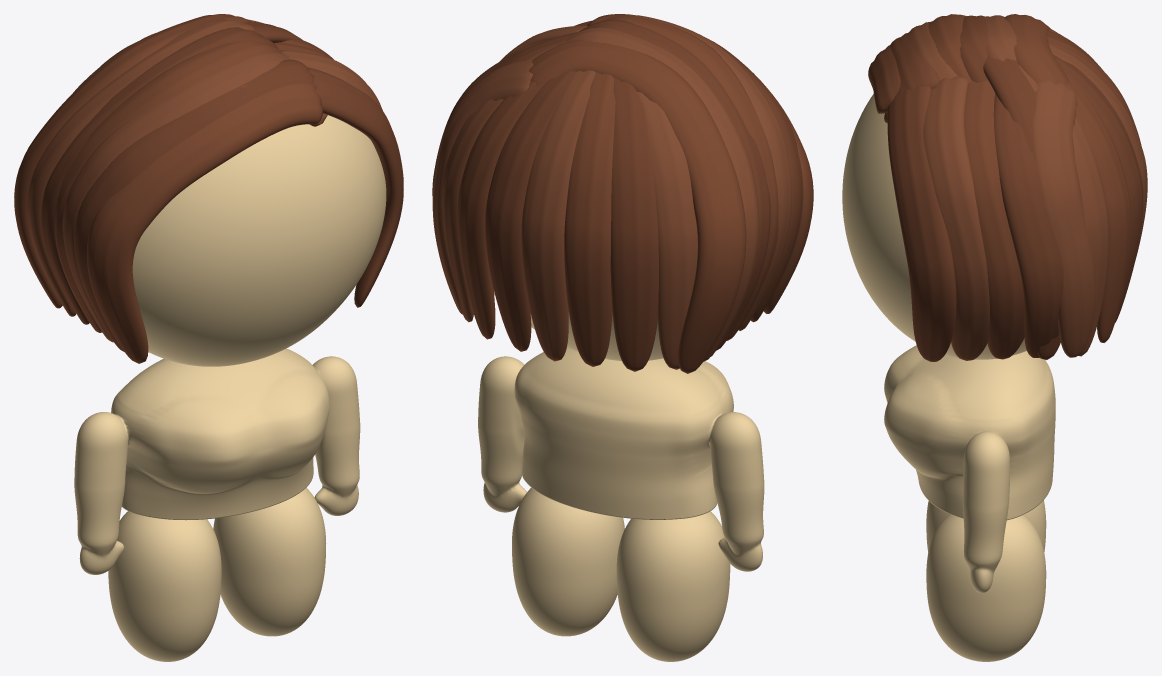
Rendered from Feminine-hands-mitten-base.glb.
3 views of the same model, side by side, from view 1: azimuth 30°, elevation 25°; view 2: azimuth 150°, elevation 25°; view 3: azimuth 270°, elevation 25° (orthographic).
Parts seen in each view (by area): view 1: Skin / soft oval head, Skin / rounded torso, Hair / Bob / side sweep 0, Skin / leg blob -1, Skin / leg blob 1, Hair / Bob / side sweep 1, Hair / Bob / side sweep 2, Hair / Bob / side sweep 3, Hair / Bob / side sweep 7, Hair / Bob / side sweep 6, Hair / Bob / side sweep 5, Hair / Bob / side sweep 4 (+2 smaller); view 2: Skin / rounded torso, Hair / Bob / side sweep 6, Skin / leg blob -1, Skin / leg blob 1, Hair / Bob / side sweep 19, Hair / Bob / side sweep 18, Hair / Bob / side sweep 17, Hair / Bob / side sweep 16, Hair / Bob / side sweep 20, Hair / Bob / side sweep 15, Hair / Bob / side sweep 5, Hair / Bob / side sweep 3 (+9 smaller); view 3: Skin / rounded torso, Skin / leg blob 1, Hair / Bob / side sweep 7, Skin / soft oval head, Hair / Bob / side sweep 8, Hair / Bob / side sweep 11, Hair / Bob / side sweep 10, Hair / Bob / side sweep 9, Hair / Bob / side sweep 15, Hair / Bob / side sweep 14, Hair / Bob / side sweep 16, Hair / Bob / side sweep 13 (+10 smaller).
Boxes of the visible parts, x1,y1,x2,y2 form: Skin / soft oval head: (132,115,386,366); Skin / rounded torso: (74,348,360,574); Hair / Bob / side sweep 0: (87,83,327,363); Skin / leg blob -1: (108,511,221,661); Skin / leg blob 1: (213,487,326,636); Hair / Bob / side sweep 1: (74,59,317,351); Hair / Bob / side sweep 2: (62,52,289,342); Hair / Bob / side sweep 3: (54,39,281,332); Hair / Bob / side sweep 7: (308,67,403,307); Hair / Bob / side sweep 6: (14,14,250,308); Hair / Bob / side sweep 5: (27,18,253,316); Hair / Bob / side sweep 4: (41,27,278,324); Skin / rounded torso: (478,347,764,571); Hair / Bob / side sweep 6: (529,40,746,373); Skin / leg blob -1: (616,511,730,661); Skin / leg blob 1: (512,487,624,636); Hair / Bob / side sweep 19: (610,78,658,371); Hair / Bob / side sweep 18: (564,72,615,366); Hair / Bob / side sweep 17: (521,70,595,361); Hair / Bob / side sweep 16: (485,71,576,351); Hair / Bob / side sweep 20: (637,91,697,369); Hair / Bob / side sweep 15: (457,82,545,339); Hair / Bob / side sweep 5: (565,27,759,361); Hair / Bob / side sweep 3: (600,15,778,340); Skin / rounded torso: (884,345,1055,593); Skin / leg blob 1: (926,514,1046,661); Hair / Bob / side sweep 7: (887,85,956,361); Skin / soft oval head: (842,93,1026,359); Hair / Bob / side sweep 8: (923,76,989,360); Hair / Bob / side sweep 11: (1032,80,1095,357); Hair / Bob / side sweep 10: (993,93,1063,357); Hair / Bob / side sweep 9: (964,80,1024,359); Hair / Bob / side sweep 15: (1067,76,1131,342); Hair / Bob / side sweep 14: (1019,65,1109,356); Hair / Bob / side sweep 16: (1053,54,1143,322); Hair / Bob / side sweep 13: (983,57,1060,359).
Size of the model in its own units: 1.02 by 1.86 by 0.8526.
